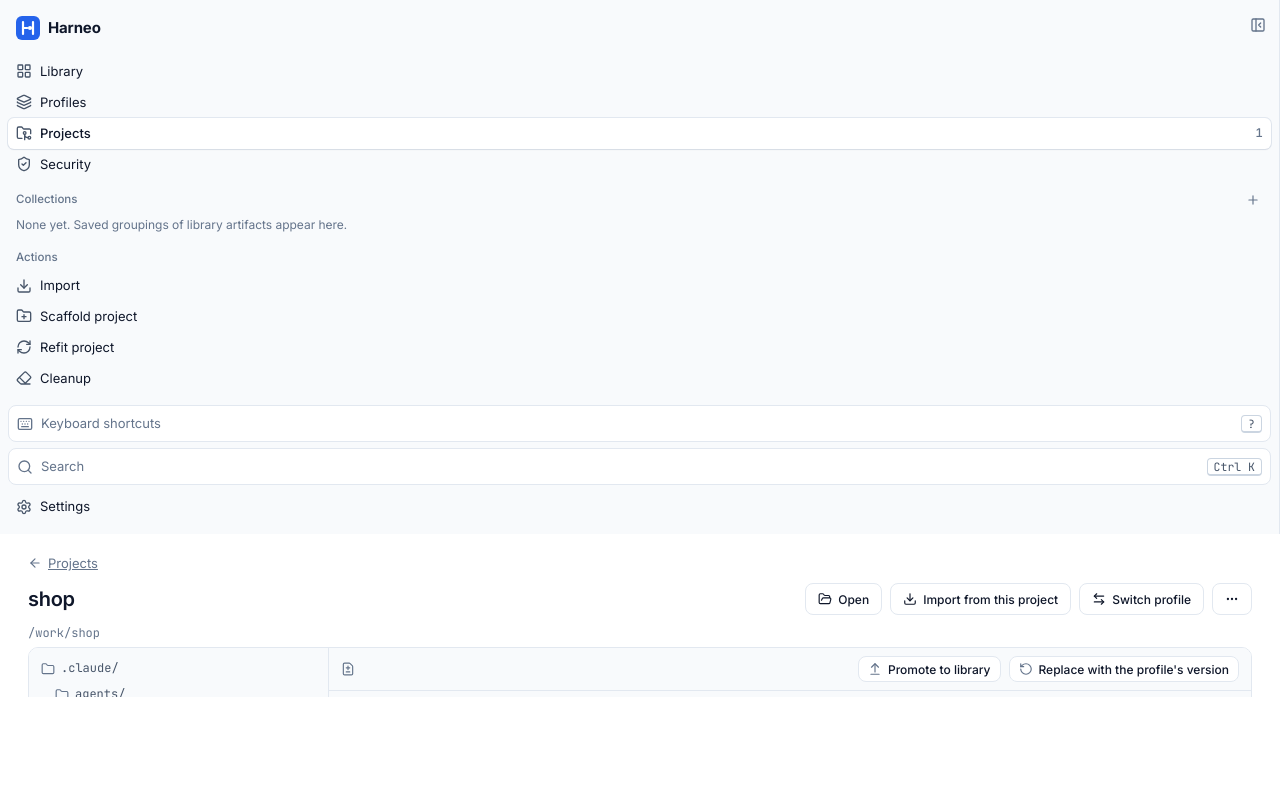
Drift tab › promotes after the prototype's confirm
(page scrolled)
Click the button "Promote to library": (929, 670) [858, 656, 1000, 682]
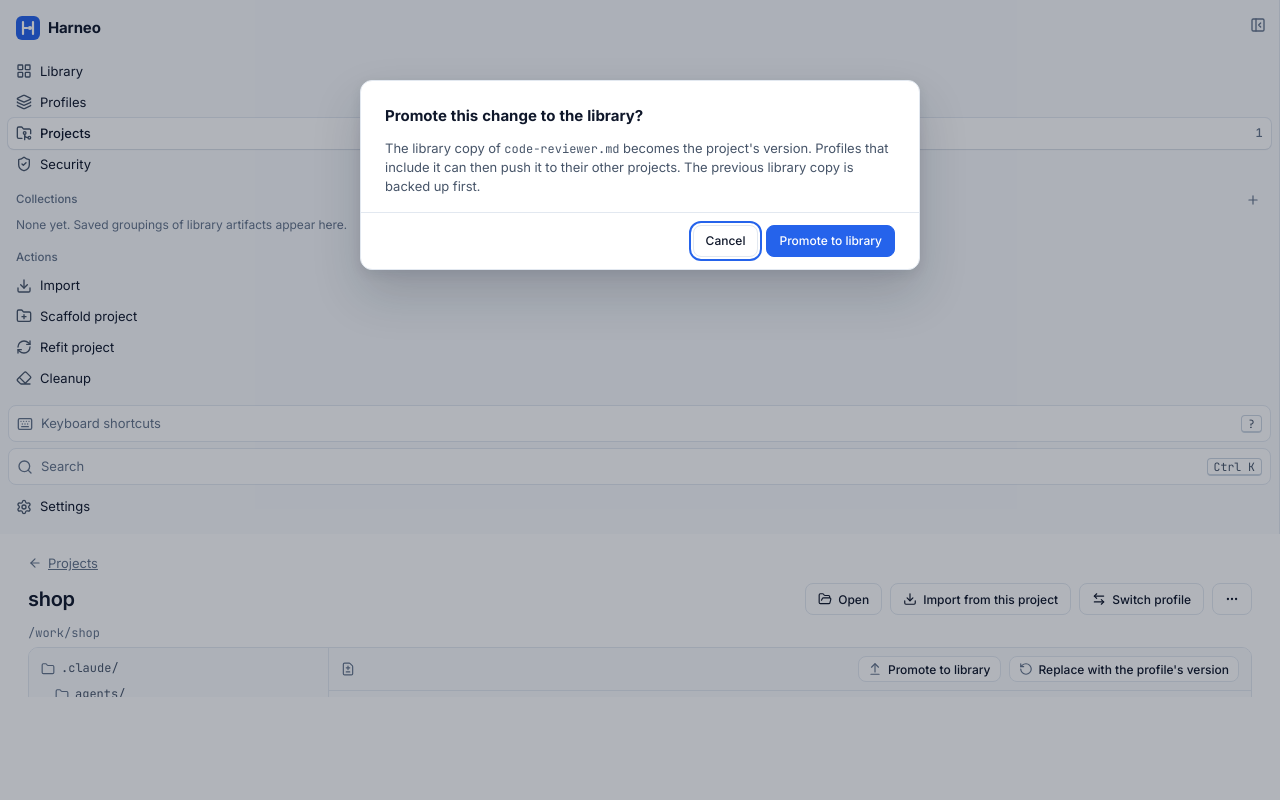
Expected: the dialog shows "Promote this change to the library?", [385, 106, 643, 125]
Click the button "Promote to library": (831, 241) [766, 225, 895, 257]
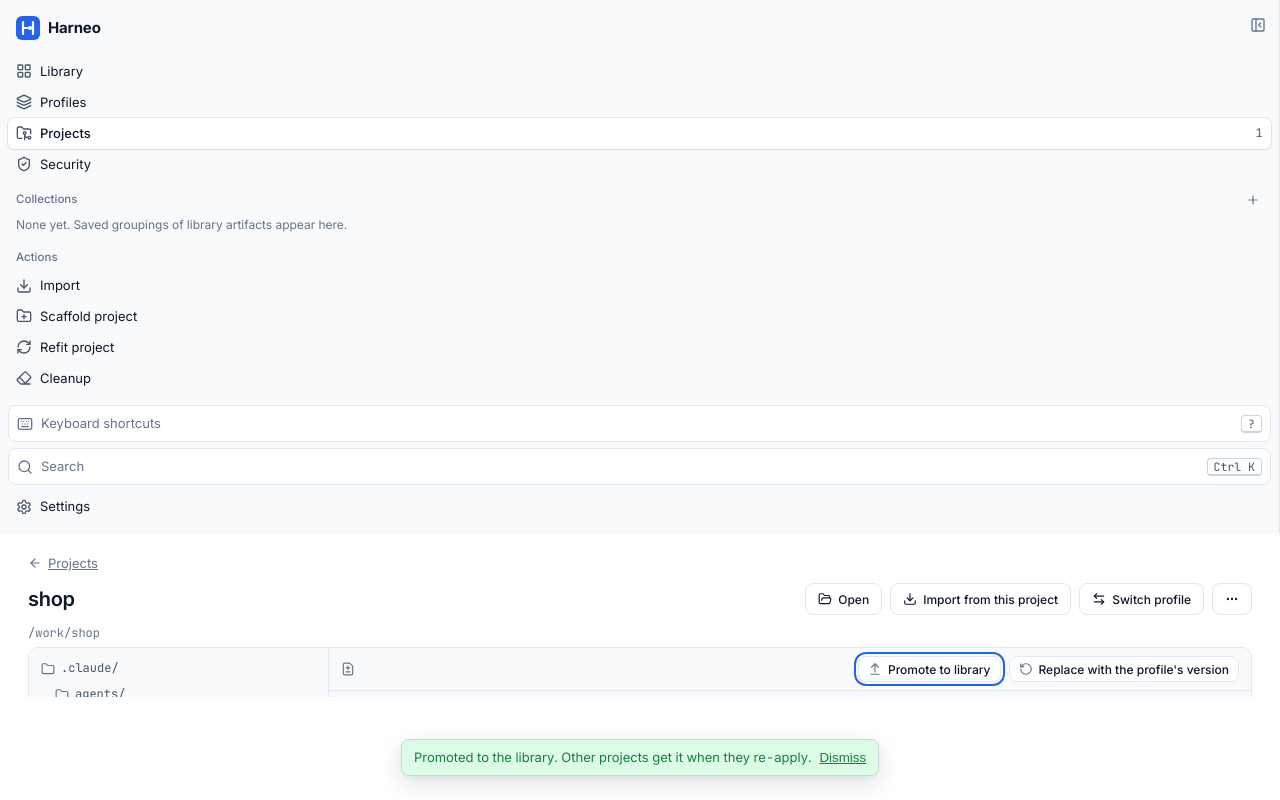
Expected: the text "Promoted to the library. Other projects get it when they re-apply." is shown, [414, 748, 811, 767]
